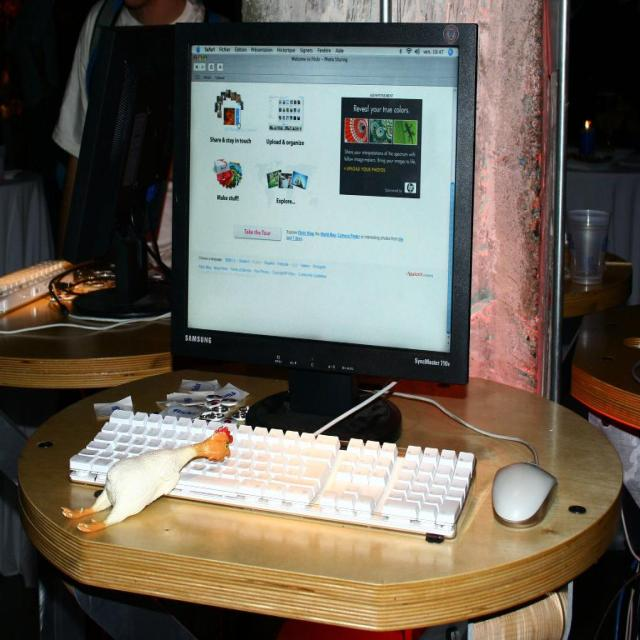Computer mouse: (490, 463, 561, 530)
